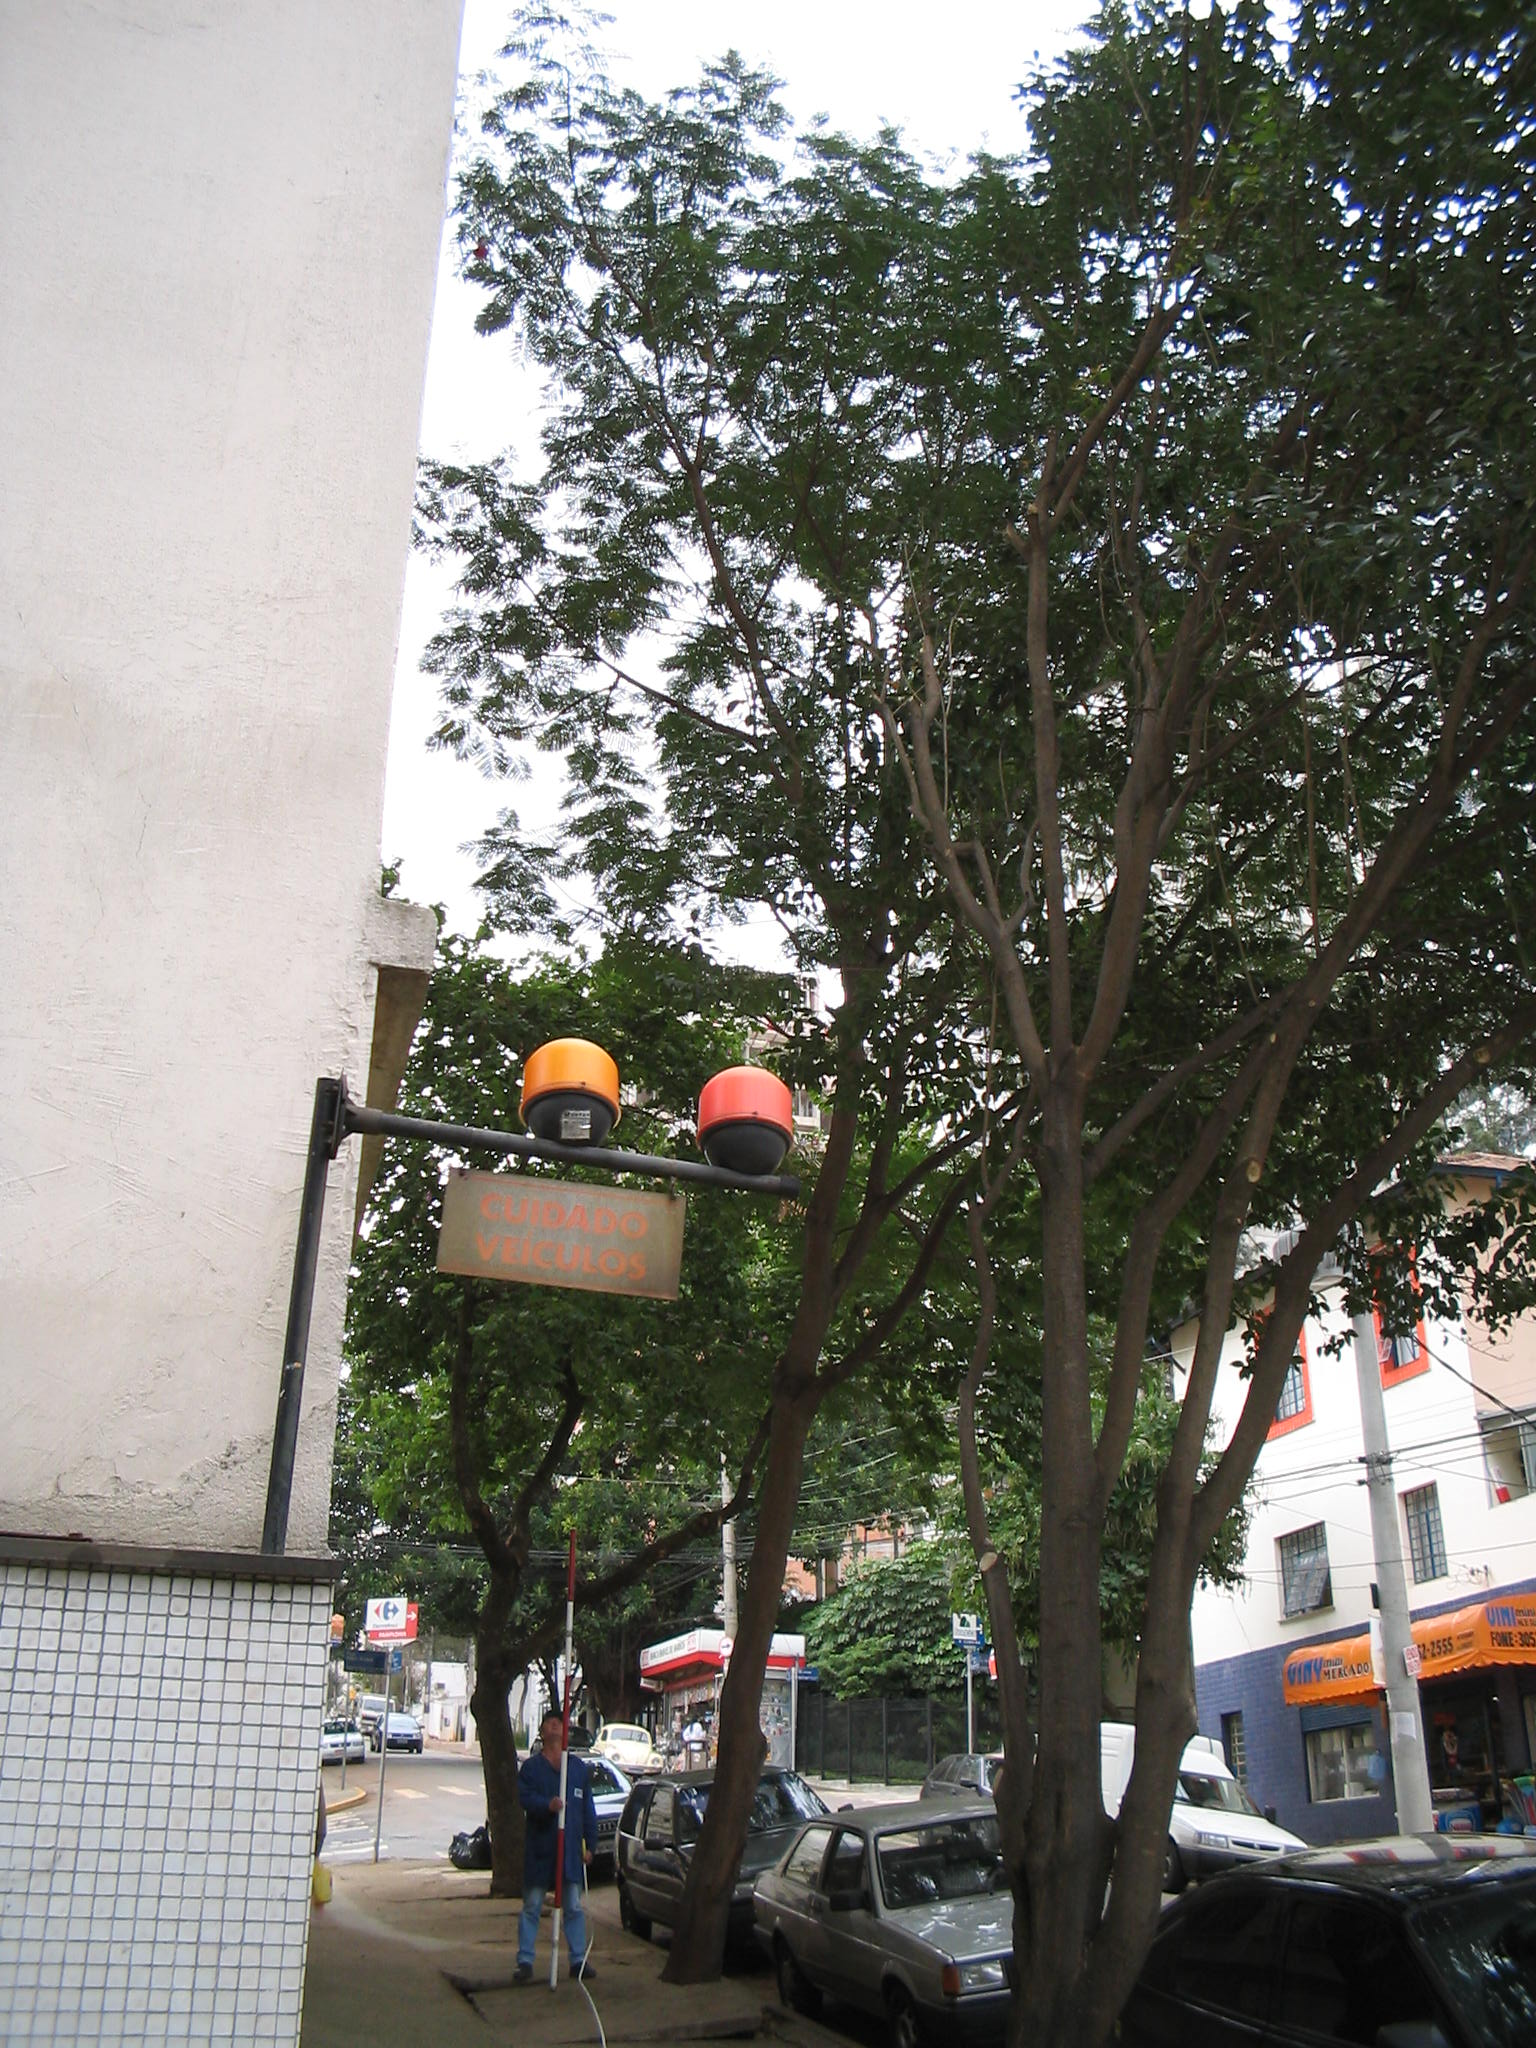stem: (662, 1400, 839, 1983), (431, 1658, 545, 1895)
stick: (536, 1526, 594, 1990)
